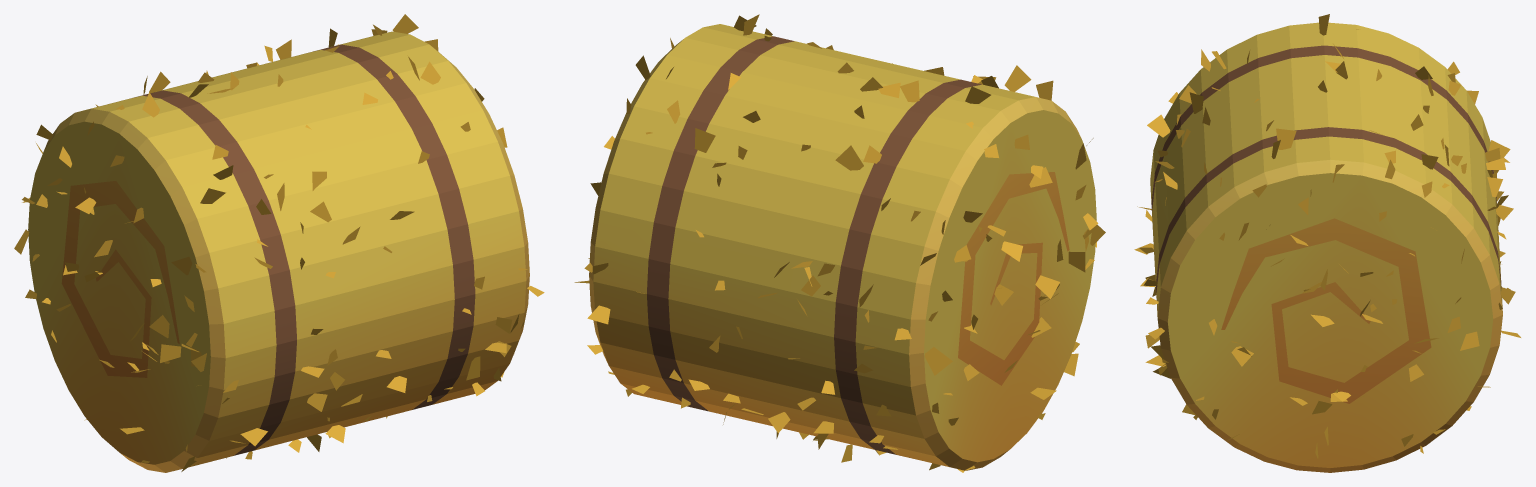
File: farmpack2023bighaybale.fbx
3 views of the same model, side by side, from view 1: azimuth 30°, elevation 25°; view 2: azimuth 150°, elevation 25°; view 3: azimuth 270°, elevation 25° (orthographic). The views are drawn at different scales.
Visible parts, largest first — view 1: Plane.355; view 2: Plane.355; view 3: Plane.355.
Boxes of the visible parts, x1,y1,x2,y2 form: Plane.355: (14, 14, 544, 472); Plane.355: (574, 14, 1105, 472); Plane.355: (1134, 14, 1520, 472).
Bounding box in the file's own units: 1.93 × 1.97 × 1.86.
